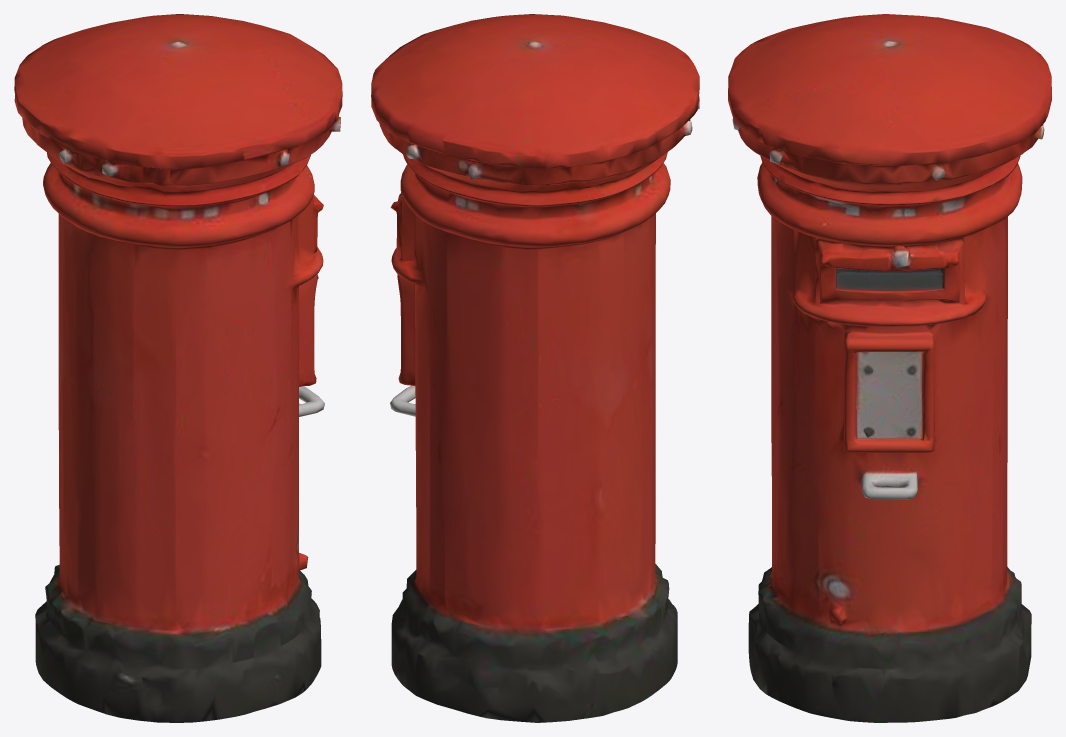
Rendered from postbox.glb.
3 renders of one model, left to right at view 1: azimuth 30°, elevation 25°; view 2: azimuth 150°, elevation 25°; view 3: azimuth 270°, elevation 25°, orthographic.
Visible parts, largest first — view 1: PostboxBody; view 2: PostboxBody; view 3: PostboxBody.
Part boxes in pixels (x1=…): PostboxBody: x1=14, y1=14, x2=342, y2=722; PostboxBody: x1=371, y1=14, x2=699, y2=722; PostboxBody: x1=728, y1=14, x2=1051, y2=722.
Bounding box in the file's own units: 0.7121 × 1.5 × 0.7076.
1 material, 1 textured.
